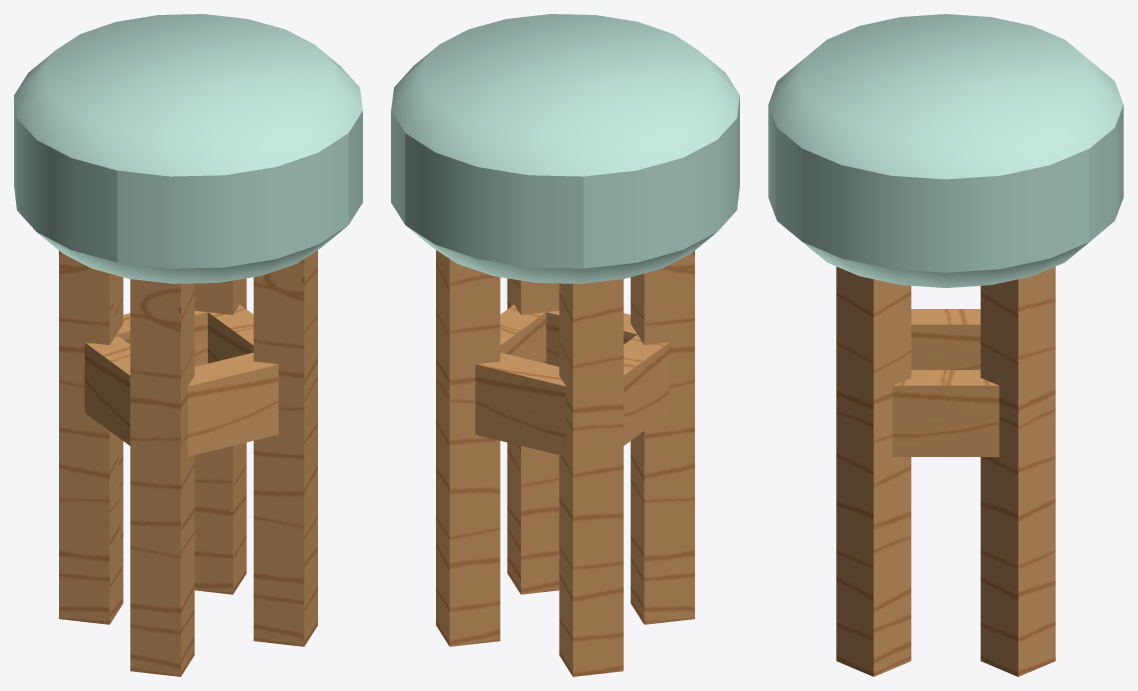
Rendered from stool_c.glb.
3 views of the same model, side by side, from view 1: azimuth 30°, elevation 25°; view 2: azimuth 150°, elevation 25°; view 3: azimuth 270°, elevation 25° (orthographic).
Visible parts, largest first — view 1: body; view 2: body; view 3: body.
Part boxes in pixels (x1,y1,x2,y2): body: (14,14,362,676); body: (391,14,739,676); body: (768,14,1123,676).
Size of the model in its own units: 0.36 by 0.62 by 0.36.
Materials: 2 (1 with a texture image).
